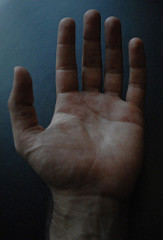palm: (40, 96, 143, 185)
